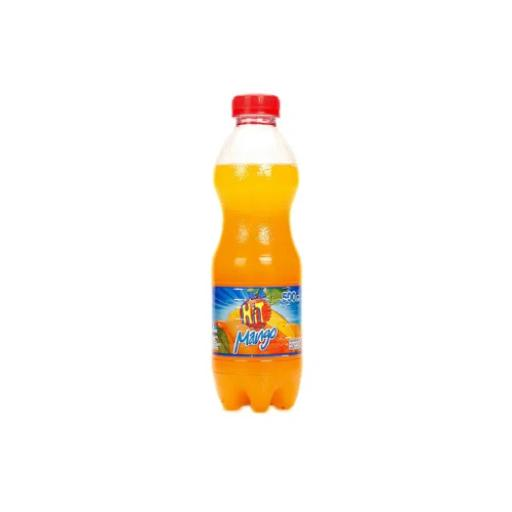JugoHM: (178, 70, 330, 434)
